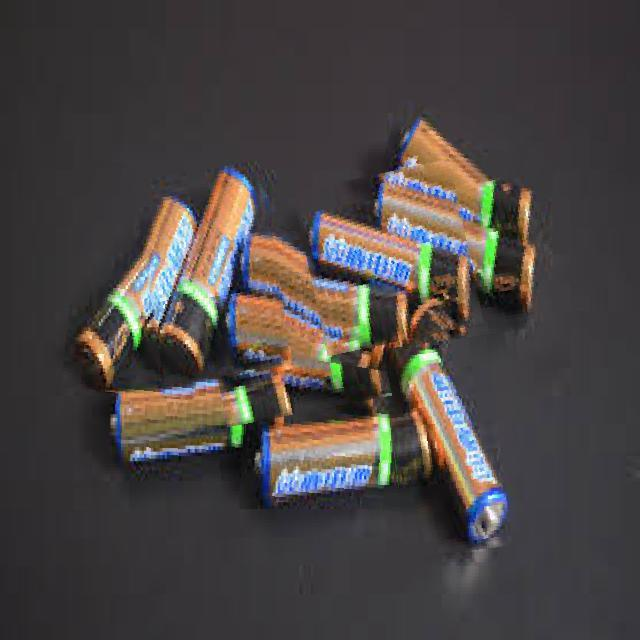Battery: (361, 175, 549, 314), (74, 199, 201, 396), (404, 338, 524, 542), (154, 166, 266, 370), (86, 370, 308, 470), (218, 291, 407, 408), (303, 200, 474, 327), (240, 405, 433, 512), (392, 121, 546, 232), (241, 271, 407, 351)
